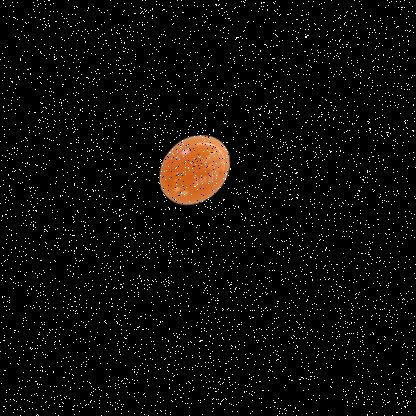welood: (151, 122, 246, 229)
